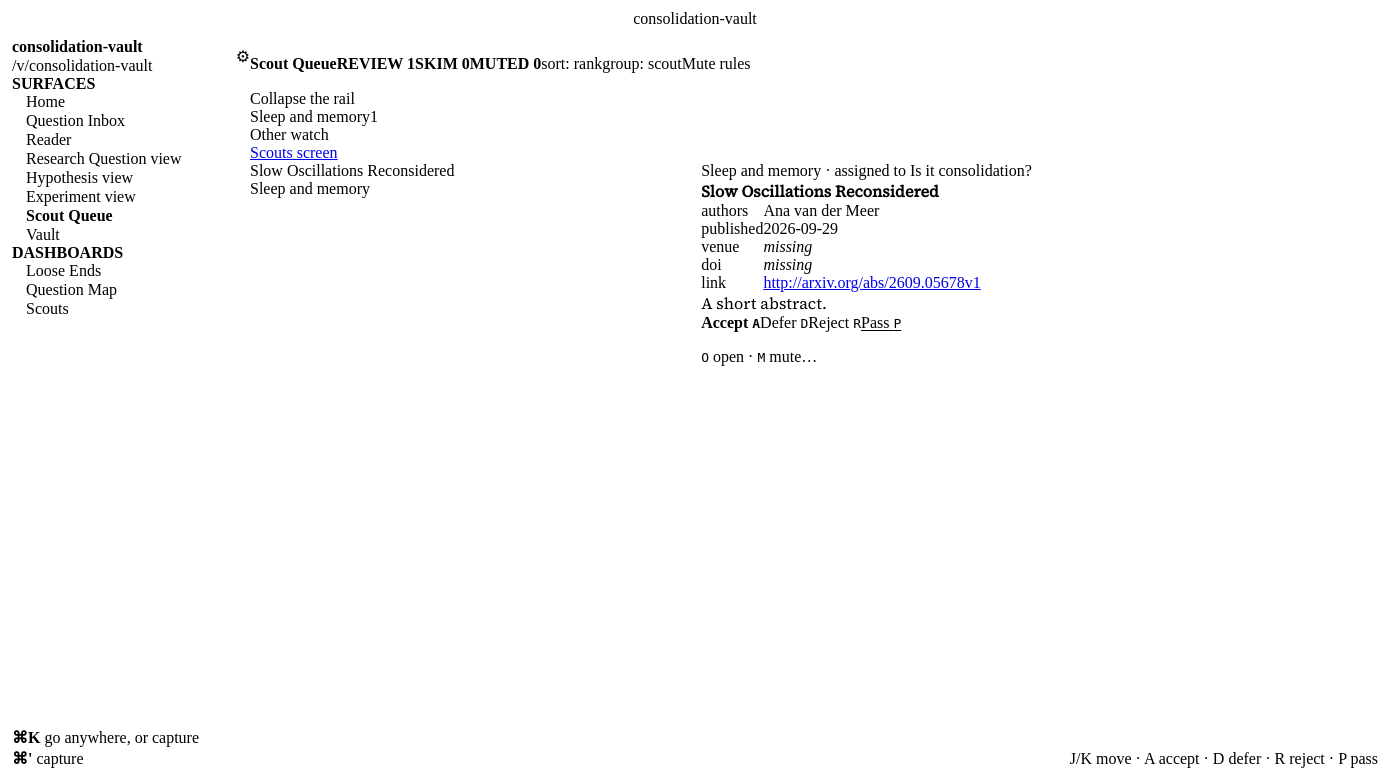
Scenario: the Scout Queue › Review, worked from the keyboard › forgets what was passed when another group is chosen
Press p in the element named "Slow Oscillations Reconsidered", box [701,162,1032,365]
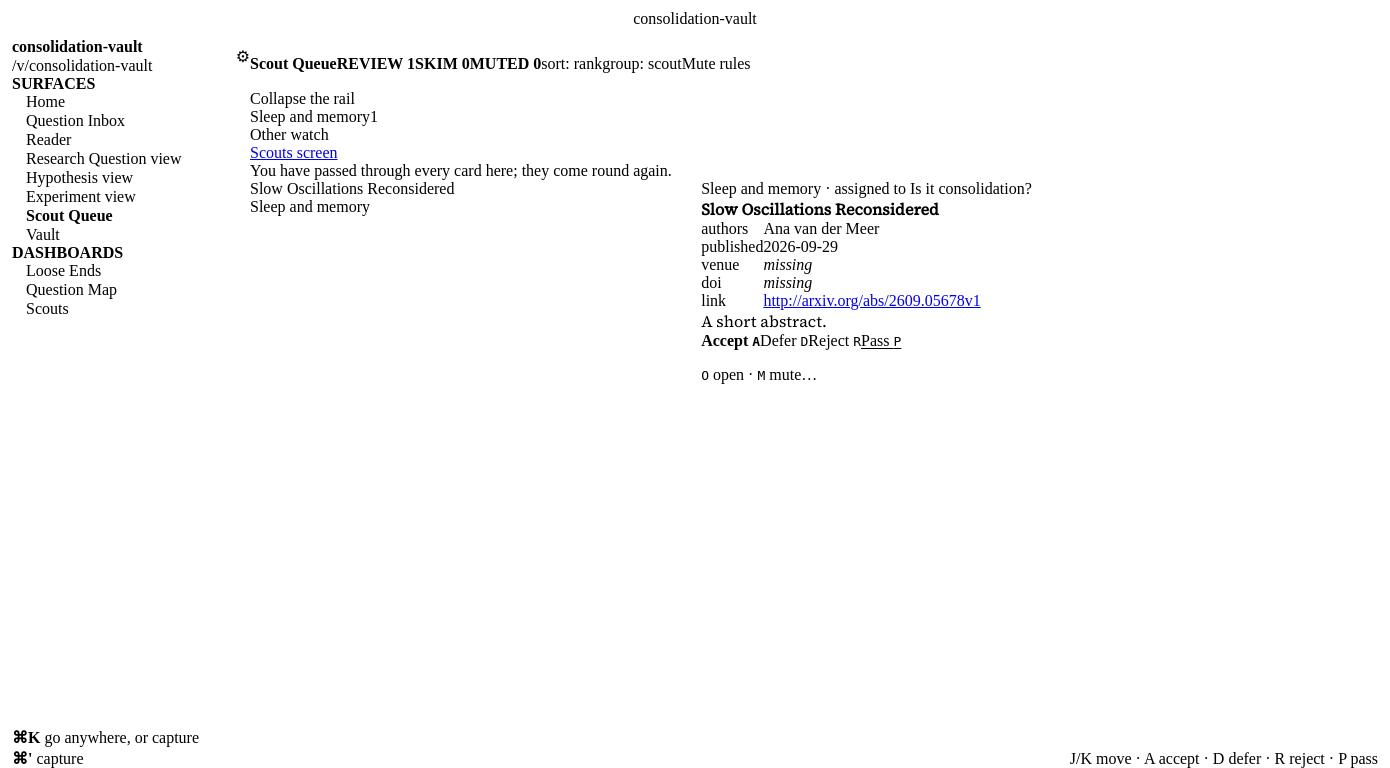
expect the text "passed through every card" is shown: met, box [250,162,482,179]
Click the button "Other watch" at [338, 135], box [250,126,426,144]
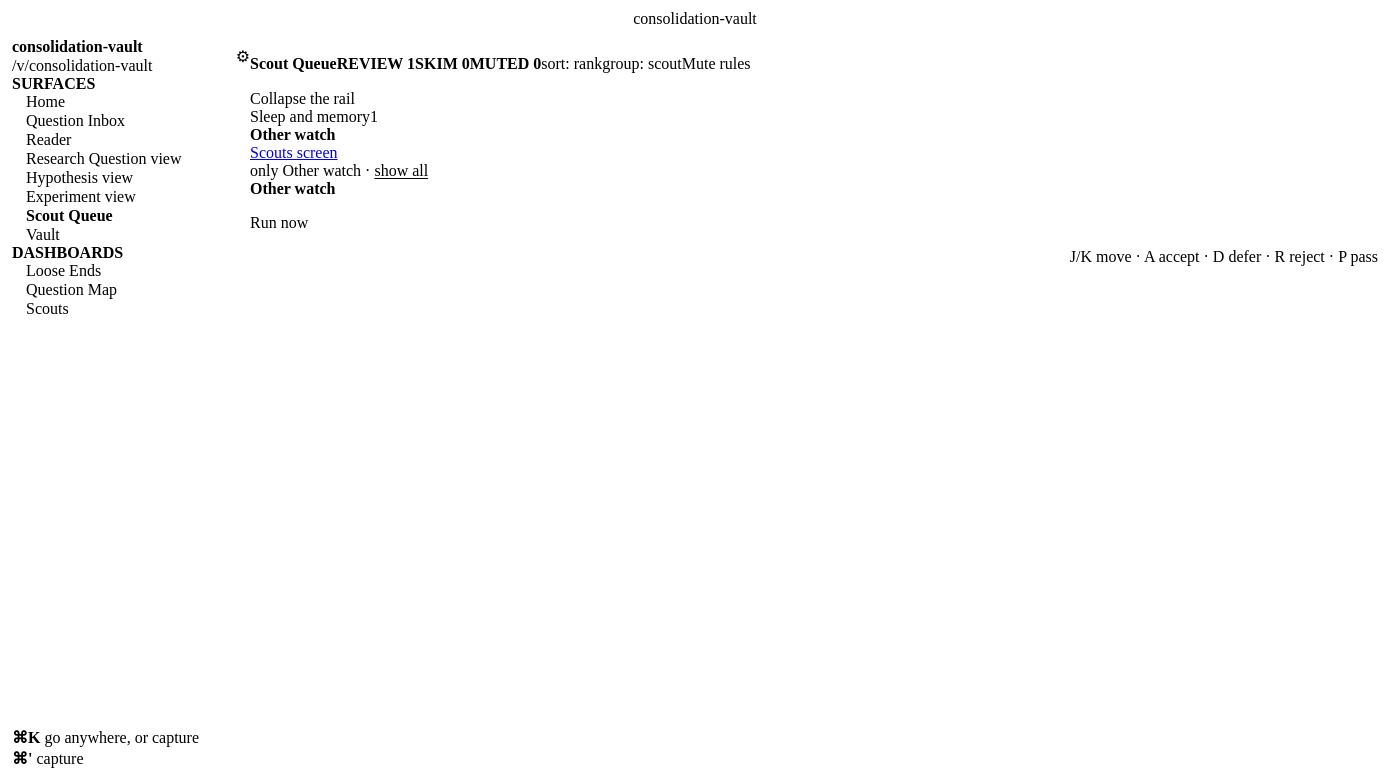
expect the text "passed through every card" is gone: met
